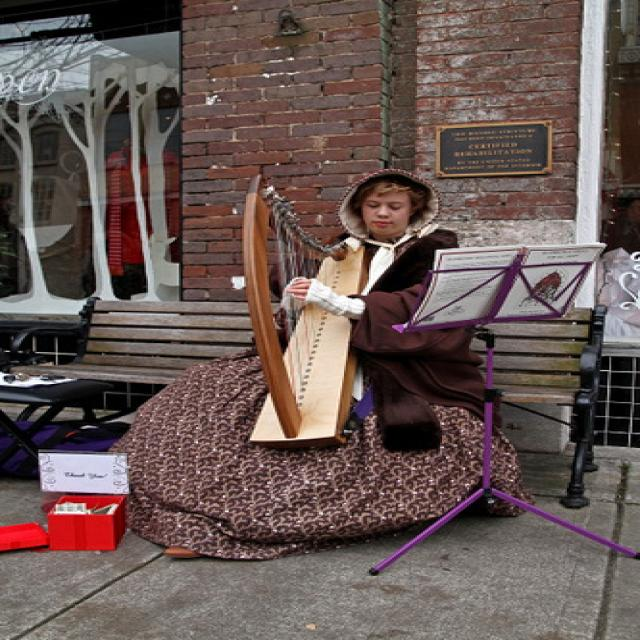harp: (230, 175, 368, 451)
